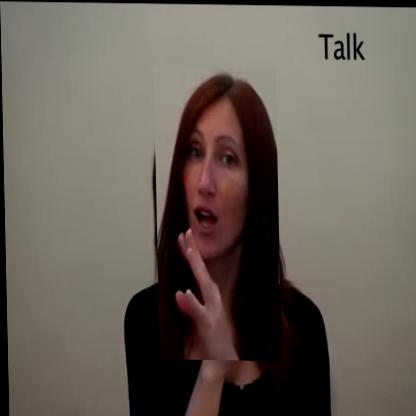Talk: (153, 66, 280, 360)
